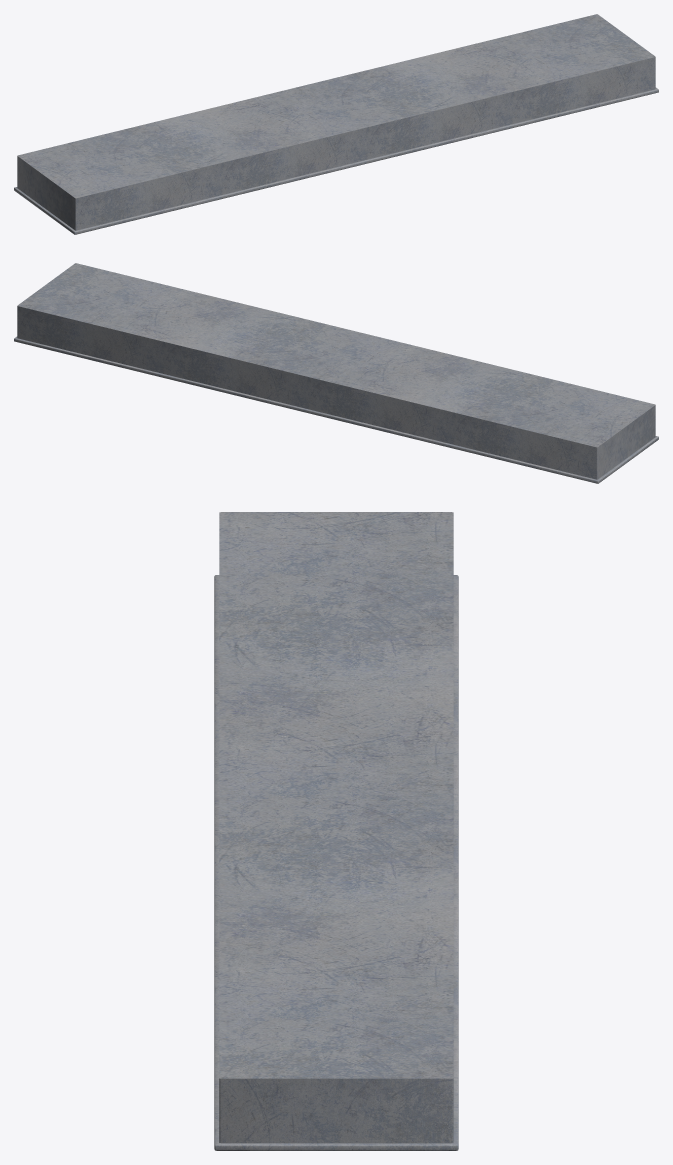
The model's file is WallLamp.FBX.
The picture shows the model from 3 angles, top to bottom: view 1: azimuth 30°, elevation 25°; view 2: azimuth 150°, elevation 25°; view 3: azimuth 270°, elevation 25°; orthographic projection. The views are drawn at different scales.
Visible parts, largest first — view 1: WallLamp; view 2: WallLamp; view 3: WallLamp.
Part boxes in pixels (x1=…): WallLamp: x1=14, y1=14, x2=658, y2=234; WallLamp: x1=14, y1=263, x2=658, y2=483; WallLamp: x1=214, y1=512, x2=458, y2=1150.
Size of the model in its own units: 793 by 45.76 by 143.
